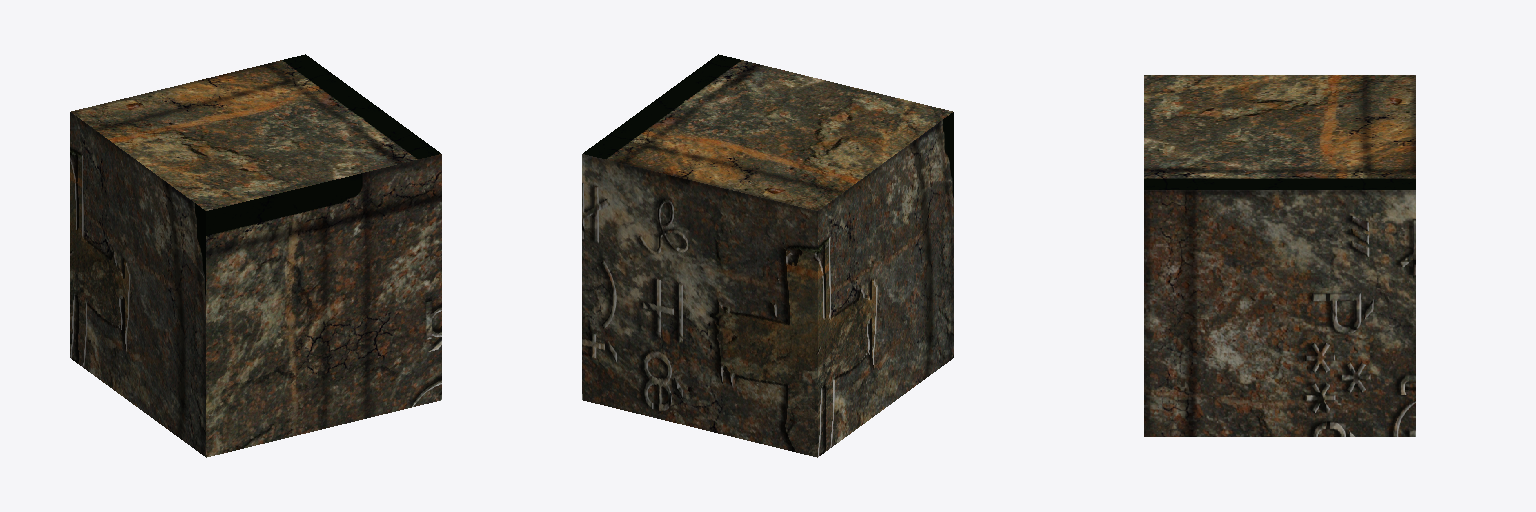
The picture shows the model from 3 angles: view 1: azimuth 30°, elevation 25°; view 2: azimuth 150°, elevation 25°; view 3: azimuth 270°, elevation 25°; orthographic projection.
Parts seen in each view (by area): view 1: Cube.001; view 2: Cube.001; view 3: Cube.001.
Boxes of the visible parts, x1=… form: Cube.001: x1=70, y1=54, x2=441, y2=457; Cube.001: x1=582, y1=54, x2=953, y2=457; Cube.001: x1=1144, y1=75, x2=1415, y2=436.
Bounding box in the file's own units: 2 × 2 × 2.
Materials: 1 (1 with a texture image).